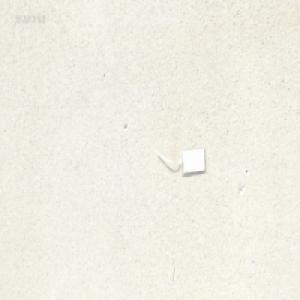LuggageTag: (156, 146, 206, 174)
